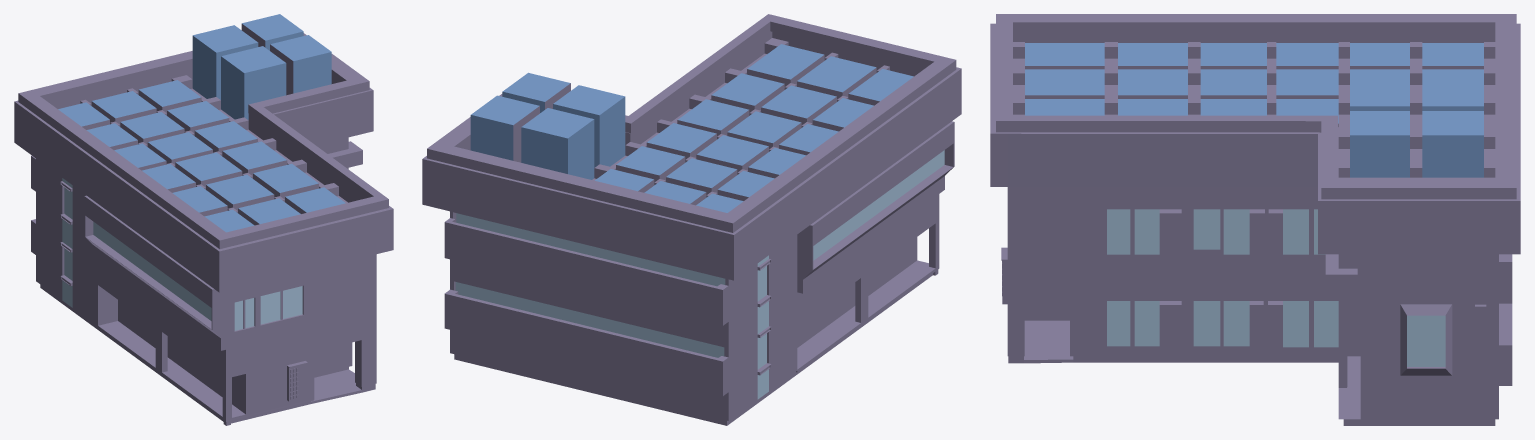
File: house_ver6_0914.fbx
3 views of the same model, side by side, from view 1: azimuth 30°, elevation 25°; view 2: azimuth 150°, elevation 25°; view 3: azimuth 270°, elevation 25° (orthographic). The views are drawn at different scales.
Parts seen in each view (by area): view 1: Cube; view 2: Cube; view 3: Cube.
Part boxes in pixels (x1=…): Cube: x1=14, y1=14, x2=393, y2=425; Cube: x1=422, y1=14, x2=961, y2=425; Cube: x1=990, y1=14, x2=1520, y2=425.
Size of the model in its own units: 913 by 681 by 1153.
